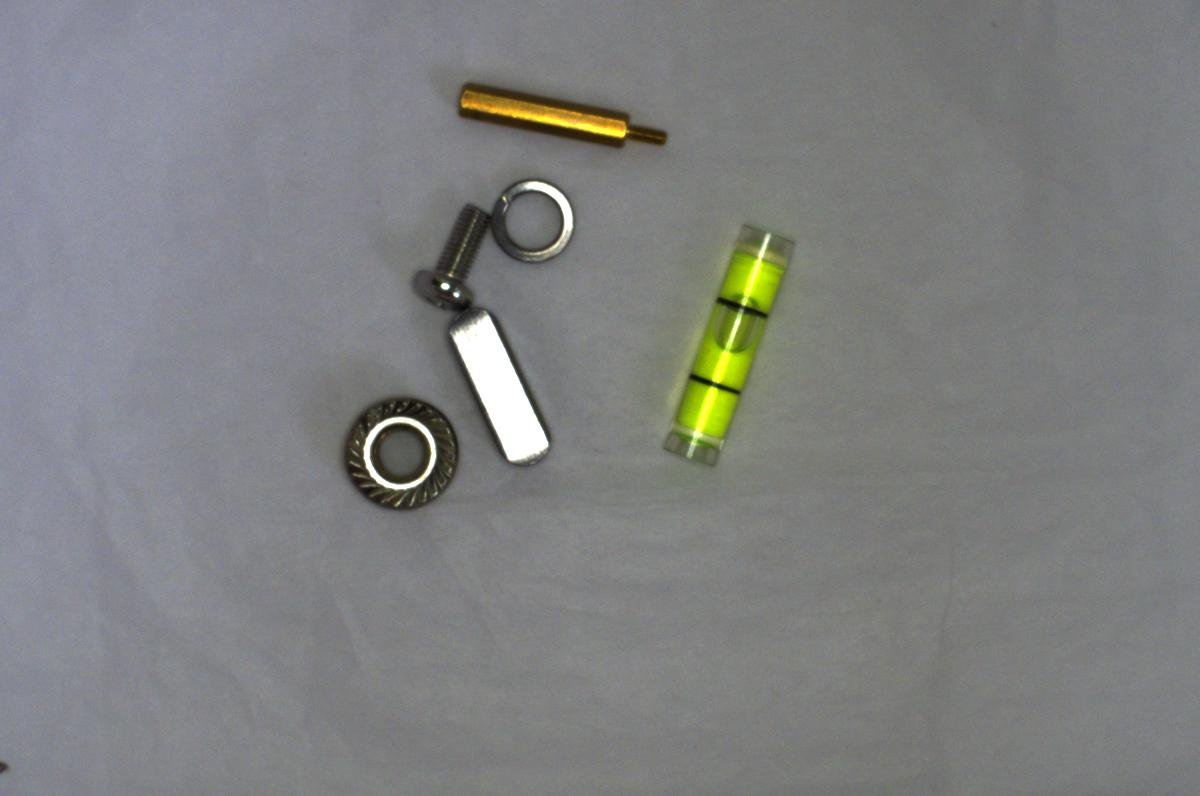Flange nut: (327, 386, 471, 519)
Hexagon pillar: (445, 72, 668, 153)
Horizontal bubble: (633, 213, 797, 468)
Keybar: (440, 302, 572, 473)
Round head screw: (404, 195, 491, 310)
Spring washer: (480, 161, 582, 263)
